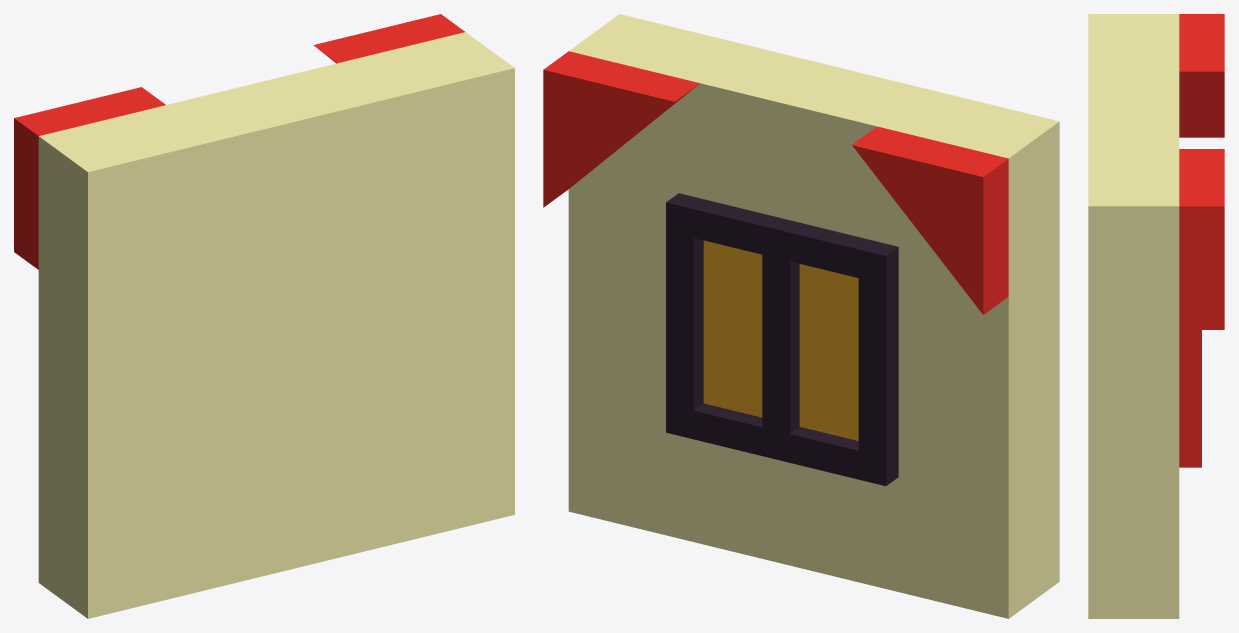
File: WindowRoofTop.fbx
The picture shows the model from 3 angles, left to right: view 1: azimuth 30°, elevation 25°; view 2: azimuth 150°, elevation 25°; view 3: azimuth 270°, elevation 25°; orthographic projection. The views are drawn at different scales.
Visible parts, largest first — view 1: WindowRoofTop; view 2: WindowRoofTop; view 3: WindowRoofTop.
Part boxes in pixels (x1,y1,x2,y2): WindowRoofTop: (14,14,514,618); WindowRoofTop: (543,14,1059,618); WindowRoofTop: (1088,14,1224,618).
Size of the model in its own units: 200 by 200 by 60.
